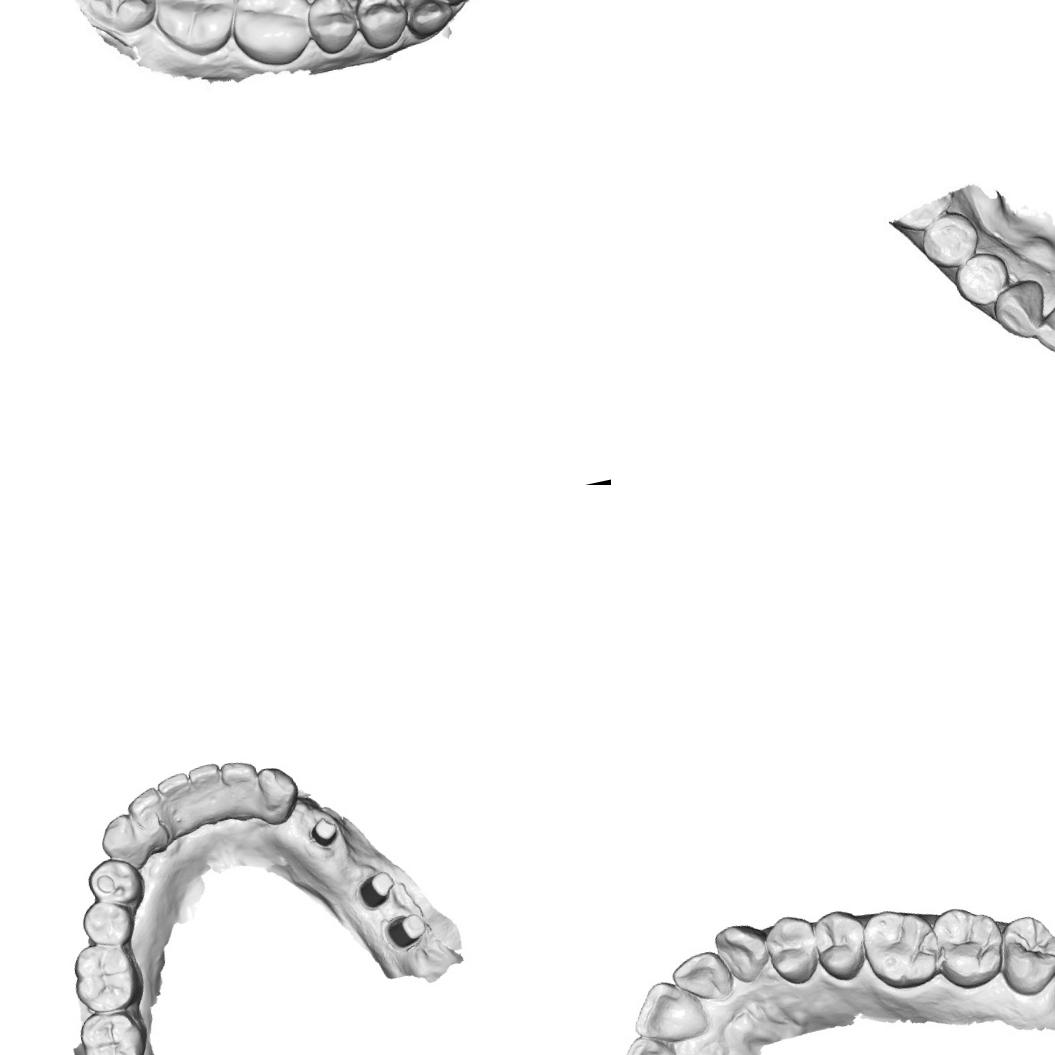abutment: (380, 910, 431, 955), (352, 868, 400, 912), (306, 814, 343, 852)
canine: (988, 275, 1055, 344), (711, 917, 773, 988), (95, 809, 152, 876), (253, 762, 304, 827), (395, 0, 460, 45)
incisor: (623, 971, 713, 1055), (666, 945, 740, 1012), (122, 784, 173, 859), (218, 756, 266, 824), (154, 770, 201, 839), (186, 760, 230, 828), (1030, 305, 1055, 364)
molar: (855, 900, 945, 996), (929, 901, 1010, 997), (66, 936, 148, 1019), (225, 0, 319, 71), (154, 0, 242, 63), (996, 906, 1055, 998), (75, 1002, 155, 1055), (66, 0, 163, 41)
premolar: (760, 908, 825, 992), (810, 904, 871, 984), (915, 206, 985, 274), (948, 247, 1016, 312), (83, 852, 150, 916), (302, 0, 367, 64), (78, 894, 140, 952), (354, 0, 410, 49)
